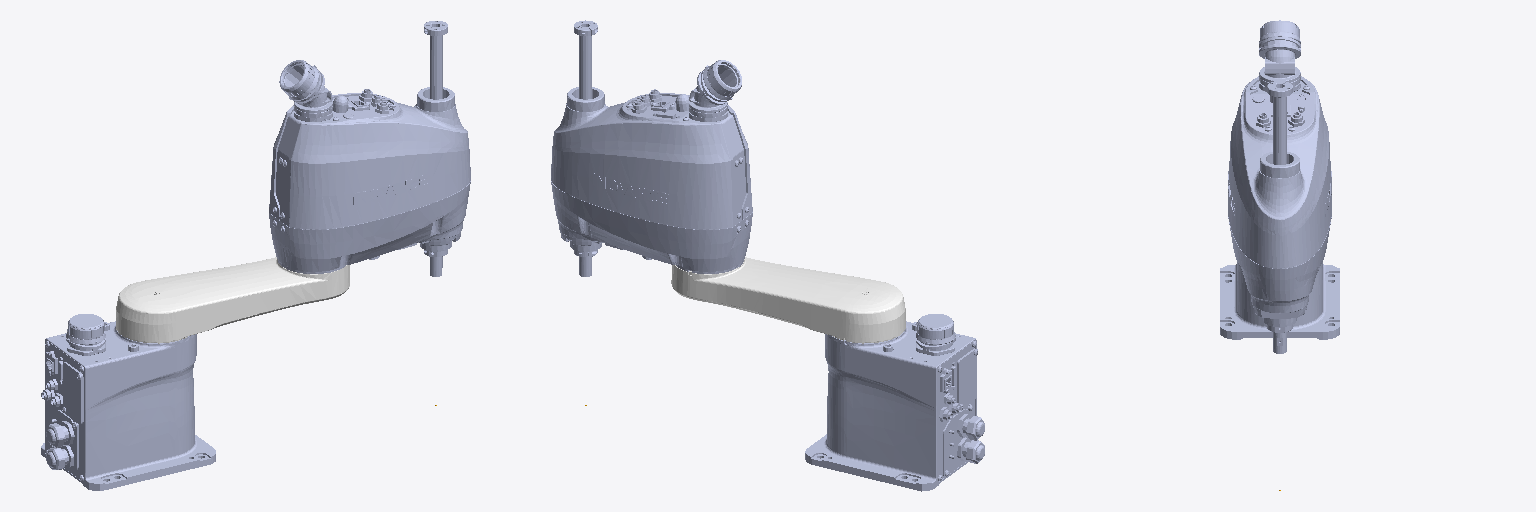
robot.urdf — ino_ir_400_4:
<?xml version="1.0" encoding="utf-8"?>
<!-- This URDF was automatically created by SolidWorks to URDF Exporter! Originally created by [author] ([email redacted]) 
     Commit Version: 1.6.0-4-g7f85cfe  Build Version: 1.6.7995.38578
     For more information, please see http://wiki.ros.org/sw_urdf_exporter -->
<robot name="ino_ir_400_4">
  <link name="baselink">
    <inertial>
      <origin xyz="-0.0475269893399034 -9.18909934732606E-05 -0.063117944265121" rpy="0 0 0" />
      <mass
        value="2.90339245640769" />
      <inertia
        ixx="0.00973437418999566"
        ixy="-2.78454910615506E-05"
        ixz="0.000205437268202328"
        iyy="0.0147351913262812"
        iyz="-1.24736485148572E-05"
        izz="0.00973951348382178" />
    </inertial>
    <visual>
      <origin xyz="0 0 0" rpy="0 0 0" />
      <geometry>
        <mesh
          filename="package://ino_ir_400_4/meshes/baselink.dae" />
      </geometry>
      <material
        name="">
        <color
          rgba="0.792156862745098 0.819607843137255 0.933333333333333 1" />
      </material>
    </visual>
    <collision>
      <origin xyz="0 0 0" rpy="0 0 0" />
      <geometry>
        <mesh
          filename="package://ino_ir_400_4/meshes/baselink.obj" />
      </geometry>
    </collision>
  </link>
  <link name="link1">
    <inertial>
      <origin xyz="0.100762422197871 -4.15879641913283E-06 0.0430096798259152" rpy="0 0 0" />
      <mass
        value="1.04914101414795" />
      <inertia
        ixx="0.000790470115287701"
        ixy="4.96914433097863E-08"
        ixz="4.6837895291801E-05"
        iyy="0.00844429805643474"
        iyz="-7.48336244503902E-09"
        izz="0.0089607919678015" />
    </inertial>
    <visual>
      <origin
        xyz="0 0 0"
        rpy="0 0 0" />
      <geometry>
        <mesh
          filename="package://ino_ir_400_4/meshes/link1.dae" />
      </geometry>
      <material
        name="">
        <color
          rgba="1 1 1 1" />
      </material>
    </visual>
    <collision>
      <origin xyz="0 0 0"  rpy="0 0 0" />
      <geometry>
        <mesh
          filename="package://ino_ir_400_4/meshes/link1.obj" />
      </geometry>
    </collision>
  </link>
  <joint name="joint1" type="revolute">
    <origin xyz="0 0 0" rpy="0 0 0" />
    <parent
      link="baselink" />
    <child
      link="link1" />
    <axis
      xyz="0 0 1" />
    <limit lower="-1.6" upper="1.6" effort="40" velocity="6.2832" />
  </joint>
  <link name="link2">
    <inertial>
      <origin xyz="0.0692345179040184 -1.36553873458821E-06 0.0948639235249834" rpy="0 0 0" />
      <mass
        value="4.37140972916236" />
      <inertia
        ixx="0.0164443431821456"
        ixy="-4.4524412352778E-07"
        ixz="0.00180305389582797"
        iyy="0.0316170708085011"
        iyz="-1.10803964728059E-08"
        izz="0.0225919113178935" />
    </inertial>
    <visual>
      <origin xyz="0 0 0" rpy="0 0 0" />
      <geometry>
        <mesh
          filename="package://ino_ir_400_4/meshes/link2.dae" />
      </geometry>
      <material
        name="">
        <color
          rgba="0.792156862745098 0.819607843137255 0.933333333333333 1" />
      </material>
    </visual>
    <collision>
      <origin xyz="0 0 0" rpy="0 0 0" />
      <geometry>
        <mesh
          filename="package://ino_ir_400_4/meshes/link2.obj" />
      </geometry>
    </collision>
  </link>
  <joint name="joint2" type="revolute">
    <origin xyz="0.225 0 0.0614" rpy="0 0 0" />
    <parent
      link="link1" />
    <child
      link="link2" />
    <axis
      xyz="0 0 1" />
    <limit lower="-2.4609" upper="2.4609" effort="30" velocity="6.2832" />
  </joint>
  <link name="link3">
    <inertial>
      <origin
        xyz="8.08936534032467E-05 -2.50765281707626E-05 0.2047079329259"
        rpy="0 0 0" />
      <mass
        value="0.0353721198227354" />
      <inertia
        ixx="0.000307906325822679"
        ixy="-2.25976534063343E-09"
        ixz="-3.75701332087269E-07"
        iyy="0.00030788513534791"
        iyz="1.16283323361547E-07"
        izz="2.01279425582973E-06" />
    </inertial>
    <visual>
      <origin
        xyz="0 0 0"
        rpy="0 0 0" />
      <geometry>
        <mesh
          filename="package://ino_ir_400_4/meshes/link3.dae" />
      </geometry>
      <material
        name="">
        <color
          rgba="0.792156862745098 0.819607843137255 0.933333333333333 1" />
      </material>
    </visual>
    <collision>
      <origin
        xyz="0 0 0"
        rpy="0 0 0" />
      <geometry>
        <mesh
          filename="package://ino_ir_400_4/meshes/link3.obj" />
      </geometry>
    </collision>
  </link>
  <joint name="joint3" type="prismatic">
    <origin
      xyz="0.175 0 -0.0614"
      rpy="0 0 0" />
    <parent
      link="link2" />
    <child
      link="link3" />
    <axis
      xyz="0 0 1" />
    <limit lower="-0.04" upper="0" effort="20" velocity="1.3" />
  </joint>
  <link name="link4">
    <inertial>
      <origin
        xyz="0.000269193867090345 -3.65915253696762E-05 0.0275835344641969"
        rpy="0 0 0" />
      <mass
        value="0.00843880884560637" />
      <inertia
        ixx="1.48872682222414E-06"
        ixy="-2.6264753474242E-09"
        ixz="-2.506635428181E-08"
        iyy="1.45655449640398E-06"
        iyz="2.29160751505996E-09"
        izz="8.05120659155988E-07" />
    </inertial>
    <visual>
      <origin
        xyz="0 0 0"
        rpy="0 0 0" />
      <geometry>
        <mesh
          filename="package://ino_ir_400_4/meshes/link4.dae" />
      </geometry>
      <material
        name="">
        <color
          rgba="0.792156862745098 0.819607843137255 0.933333333333333 1" />
      </material>
    </visual>
    <collision>
      <origin
        xyz="0 0 0"
        rpy="0 0 0" />
      <geometry>
        <mesh
          filename="package://ino_ir_400_4/meshes/link4.obj" />
      </geometry>
    </collision>
  </link>
  <joint name="joint4" type="revolute">
    <origin xyz="0 0 0" rpy="0 0 0" />
    <parent link="link3" />
    <child link="link4" />
    <axis xyz="0 0 1" />
    <limit lower="-1.1416" upper="1.1416" effort="10" velocity="45.379" />
  </joint>
  <link name="link5">
    <inertial>
      <origin
        xyz="0.000269193867090345 -3.65915253696762E-05 0.0275835344641969"
        rpy="0 0 0" />
      <mass
        value="0.00843880884560637" />
      <inertia
        ixx="1.48872682222414E-06"
        ixy="-2.6264753474242E-09"
        ixz="-2.506635428181E-08"
        iyy="1.45655449640398E-06"
        iyz="2.29160751505996E-09"
        izz="8.05120659155988E-07" />
    </inertial>
    <visual>
      <origin
        xyz="0 0 0"
        rpy="0 0 0" />
      <geometry>
        <mesh
          filename="package://ino_ir_400_4/meshes/mylink.dae" />
      </geometry>
      <material
        name="">
        <color
          rgba="0.792156862745098 0.819607843137255 0.933333333333333 1" />
      </material>
    </visual>
    <collision>
      <origin
        xyz="0 0 0"
        rpy="0 0 0" />
      <geometry>
        <mesh
          filename="package://ino_ir_400_4/meshes/mylink.obj" />
      </geometry>
    </collision>
  </link>
  <joint name="joint5" type="revolute">
    <origin xyz="0 0 0" rpy="0 0 0" />
    <parent link="link4" />
    <child link="link5" />
    <axis xyz="0 0 1" />
    <limit lower="0" upper="0" effort="1" velocity="1" />
  </joint>
  <link name="link6">
        <inertial>
      <origin
        xyz="0.000269193867090345 -3.65915253696762E-05 0.0275835344641969"
        rpy="0 0 0" />
      <mass
        value="0.00843880884560637" />
      <inertia
        ixx="1.48872682222414E-06"
        ixy="-2.6264753474242E-09"
        ixz="-2.506635428181E-08"
        iyy="1.45655449640398E-06"
        iyz="2.29160751505996E-09"
        izz="8.05120659155988E-07" />
    </inertial>
    <visual>
      <origin
        xyz="0 0 0"
        rpy="0 0 0" />
      <geometry>
        <mesh
          filename="package://ino_ir_400_4/meshes/mylink.dae" />
      </geometry>
      <material
        name="">
        <color
          rgba="0.792156862745098 0.819607843137255 0.933333333333333 1" />
      </material>
    </visual>
    <collision>
      <origin
        xyz="0 0 0"
        rpy="0 0 0" />
      <geometry>
        <mesh
          filename="package://ino_ir_400_4/meshes/mylink.obj" />
      </geometry>
    </collision>
  </link>
  <joint name="joint6" type="revolute">
    <origin xyz="0 0 0" rpy="0 0 0" />
    <parent link="link5" />
    <child link="link6" />
    <axis xyz="0 0 1" />
    <limit lower="0" upper="0" effort="1" velocity="1" />
  </joint>

  <joint name="hand_joint" type="fixed">
    <origin rpy="0 0 0" xyz="0 0 0.03"/>
    <parent link="link6"/>
    <child link="hand_base_link"/>
  </joint>
  <link name="hand_base_link">
    <inertial>
      <origin xyz="0.017069 0.097417 -0.14989" rpy="0 0 0" />
      <mass
        value="0.36645" />
      <inertia
        ixx="0.00042998"
        ixy="-5.8464E-08"
        ixz="-3.871E-07"
        iyy="0.00045575"
        iyz="4.0823E-05"
        izz="9.9563E-05" />
    </inertial>
    <visual>
      <origin xyz="0 0 0" rpy="0 0 0" />
      <geometry>
        <mesh filename="package://ino_ir_400_4/meshes/suck.dae" />
      </geometry>
      <material name="">
        <color rgba="0.75294 0.75294 0.75294 1" />
      </material>
    </visual>
    <collision>
      <origin xyz="0 0 0" rpy="0 0 0" />
      <geometry>
        <mesh filename="package://ino_ir_400_4/meshes/suck.obj" />
      </geometry>
    </collision>
  </link>

  <joint name="grip_vis_joint" type="fixed">
    <parent link="hand_base_link"/>
    <child link="grip_site"/>
    <origin rpy="0 0 0" xyz="0 0 -0.209"/>
  </joint>
  <link name="grip_site">
    <visual>
      <geometry>
        <sphere radius="0.001"/>
      </geometry>
      <material name="Vis"/>
    </visual>
  </link>
  
  <link name="env">
    <inertial>
      <origin
        xyz="0.257938872246366 0.202440227265669 -0.182038064498453"
        rpy="0 0 0" />
      <mass
        value="70.3565754713384" />
      <inertia
        ixx="5.29398784227613"
        ixy="-0.1290981341927"
        ixz="-0.0808665282809915"
        iyy="5.19440647934511"
        iyz="0.0041547269468774"
        izz="9.78932300844001" />
    </inertial>
    <visual>
      <origin xyz="0 0 0" rpy="0 0 0" />
      <geometry>
        <mesh
          filename="package://ino_ir_400_4/meshes/env_suck.dae" />
      </geometry>
      <material
        name="">
        <color
          rgba="0.752941176470588 0.752941176470588 0.752941176470588 1" />
      </material>
    </visual>
    <collision>
      <origin xyz="0 0 0" rpy="0 0 0" />
      <geometry>
        <mesh
          filename="package://ino_ir_400_4/meshes/env_suck.obj" />
      </geometry>
    </collision>
  </link>
  <link name="platform">
    <inertial>
      <origin
        xyz="0.0107383685001534 -0.0610234383836579 -0.0156891844474306"
        rpy="0 0 0" />
      <mass
        value="0.380074879750474" />
      <inertia
        ixx="0.000715943222370812"
        ixy="1.24916082448569E-06"
        ixz="1.13762873105386E-06"
        iyy="0.000395971821601958"
        iyz="-2.02787883823606E-06"
        izz="0.00110044119676599" />
    </inertial>
    <visual>
      <origin xyz="0 0 0" rpy="0 0 0" />
      <geometry>
        <mesh
          filename="package://ino_ir_400_4/meshes/platform_suck.dae" />
      </geometry>
      <material
        name="">
        <color
          rgba="0.752941176470588 0.752941176470588 0.752941176470588 1" />
      </material>
    </visual>
    <collision>
      <origin xyz="0 0 0" rpy="0 0 0" />
      <geometry>
        <mesh
          filename="package://ino_ir_400_4/meshes/platform_suck.obj" />
      </geometry>
    </collision>
  </link>
  <joint name="env_platform" type="fixed">
    <origin
      xyz="0.0 0 0"
      rpy="0 0 0" />
    <parent
      link="env" />
    <child
      link="platform" />
    <axis
      xyz="0 0 0" />
  </joint>
  <joint name="base_link-base_fixed_joint" type="fixed">
    <origin rpy="0 0 0" xyz="0.023 0 0.1468"/>
    <parent link="env"/>
    <child link="baselink"/>
  </joint>
</robot>

--- What the picture shows (computed from the rendered views, not written in the file) ---
3 views of the same robot in one strip: view 1: azimuth 30°, elevation 25°; view 2: azimuth 150°, elevation 25°; view 3: azimuth 270°, elevation 25° (orthographic).
Robot: ino_ir_400_4 — 11 links, 10 joints (5 revolute, 1 prismatic, 4 fixed); root link env; default pose: every joint at zero.
Links seen in each view (by area): view 1: link2, baselink, link1, link3; view 2: link2, baselink, link1, link3; view 3: link2, baselink, link3.
Link boxes in pixels (<box>): link2: <box>269,60,470,273</box>; baselink: <box>41,314,215,490</box>; link1: <box>116,257,349,343</box>; link3: <box>424,21,447,99</box>; link2: <box>551,60,752,273</box>; baselink: <box>805,314,984,491</box>; link1: <box>671,257,905,343</box>; link3: <box>574,20,597,99</box>; link2: <box>1228,20,1331,326</box>; baselink: <box>1220,262,1339,339</box>; link3: <box>1267,81,1292,164</box>.
Bounding box of the posed robot: 0.6055 × 0.14 × 0.52 m (x, y, z).
Meshes: 9 distinct files referenced, 7 mesh visuals loaded (6 Collada DAE); not drawn: 3 (reference not matched to a file when rendering).